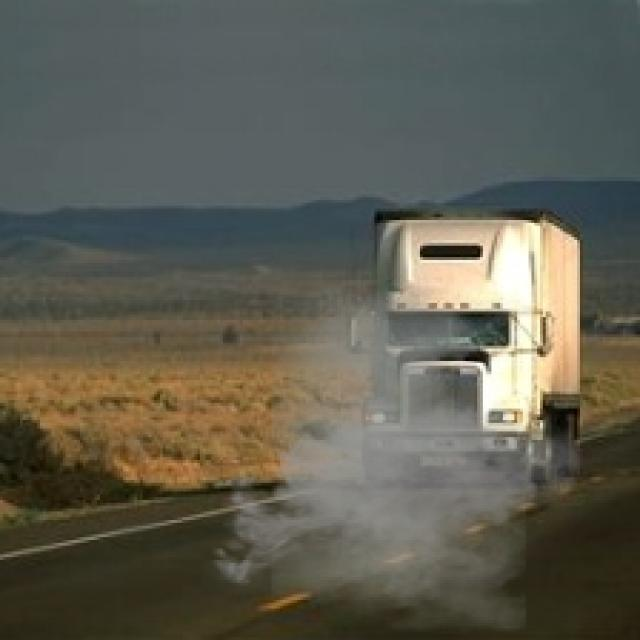smoke: (200, 286, 597, 631)
